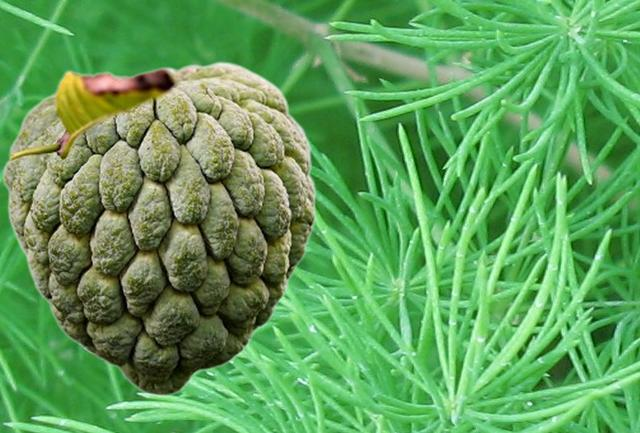atis: (1, 60, 315, 395)
